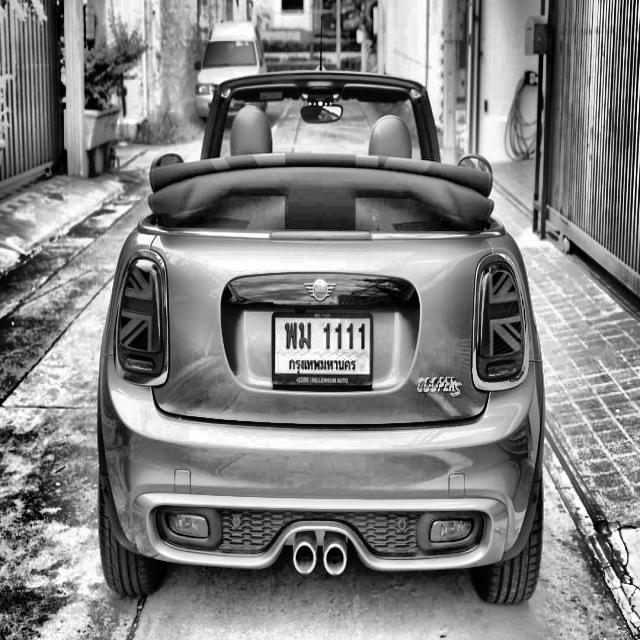license-plate: (270, 307, 375, 393)
